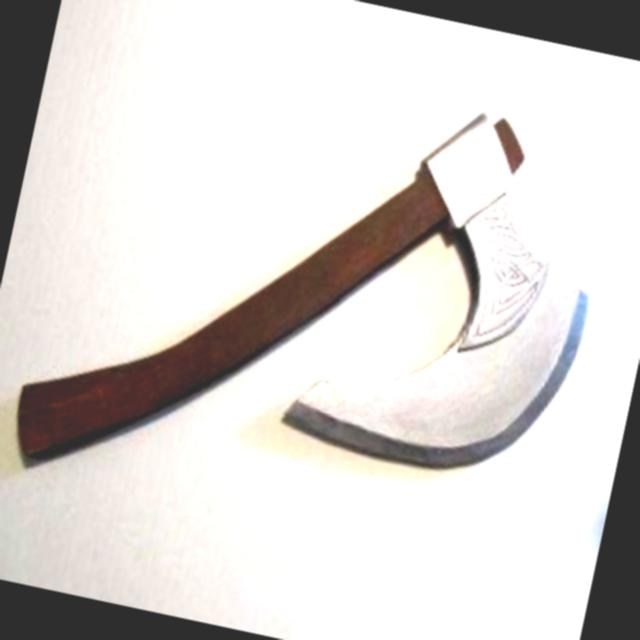ax: (0, 23, 627, 584)
